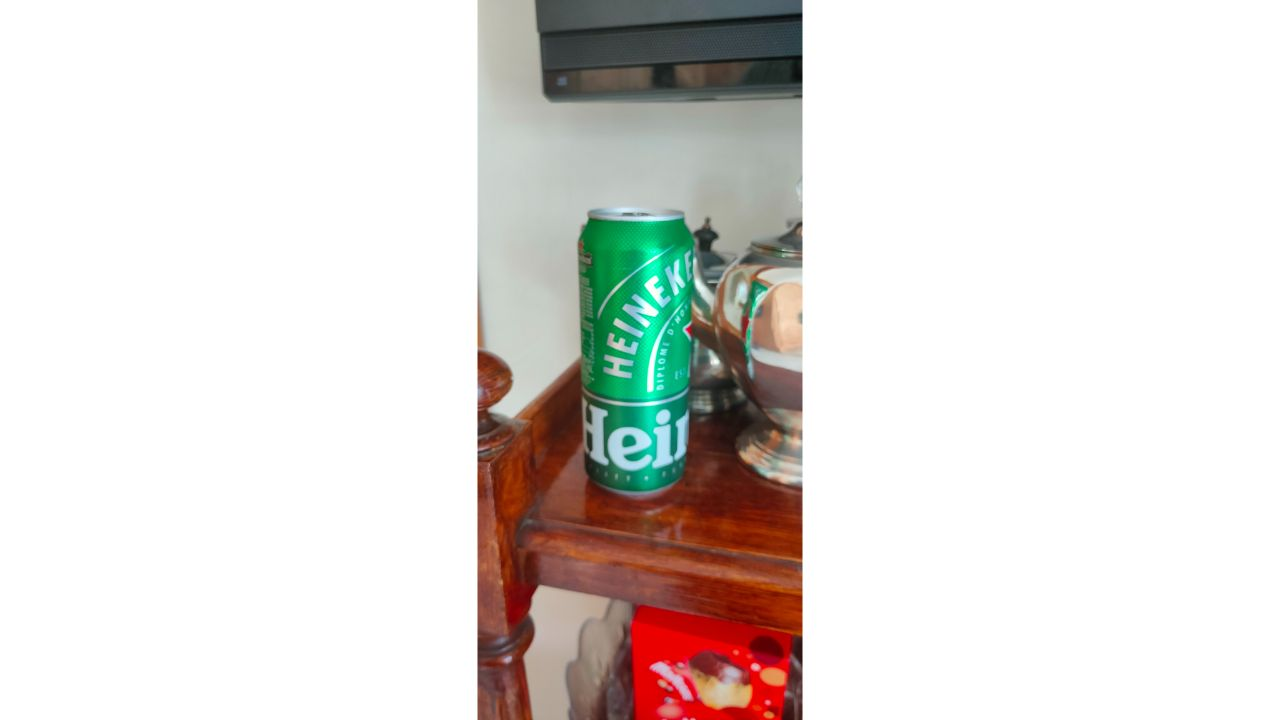Can: (578, 205, 695, 502)
